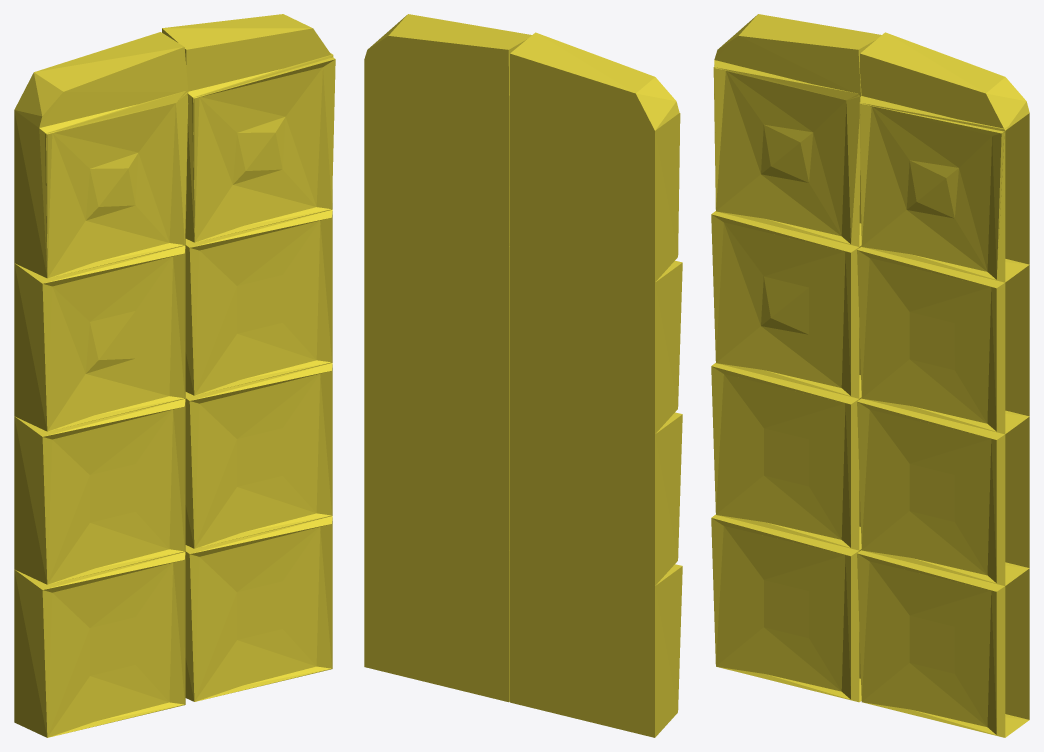
Rendered from PortaPrincipal.Low.fbx.
3 renders of one model, left to right at view 1: azimuth 30°, elevation 25°; view 2: azimuth 150°, elevation 25°; view 3: azimuth 330°, elevation 25°, orthographic.
Visible parts, largest first — view 1: PortaPrincipal.Low; view 2: PortaPrincipal.Low; view 3: PortaPrincipal.Low.
Part boxes in pixels (x1=…): PortaPrincipal.Low: x1=14, y1=14, x2=335, y2=737; PortaPrincipal.Low: x1=364, y1=14, x2=682, y2=737; PortaPrincipal.Low: x1=711, y1=14, x2=1029, y2=737.
Size of the model in its own units: 95.21 by 204 by 16.14.
